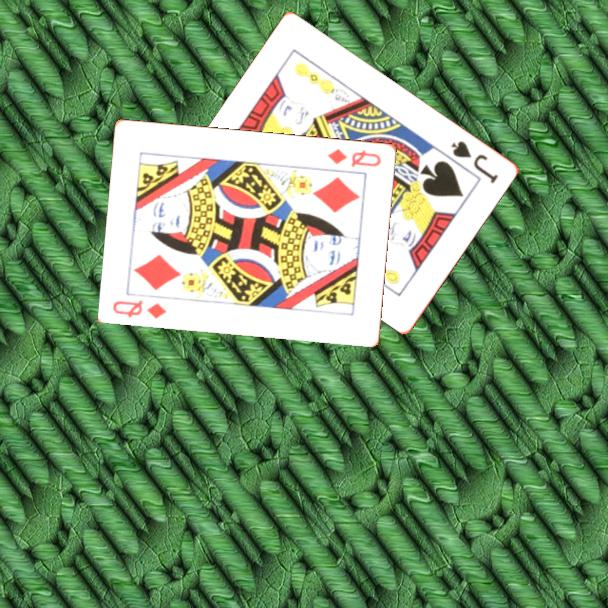d12: (324, 145, 384, 170), (110, 296, 170, 321)
s11: (448, 137, 502, 186)
